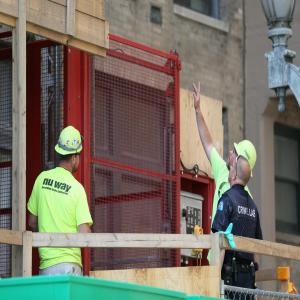none: (228, 157, 252, 190)
yellow: (56, 125, 84, 172), (227, 139, 258, 176)
